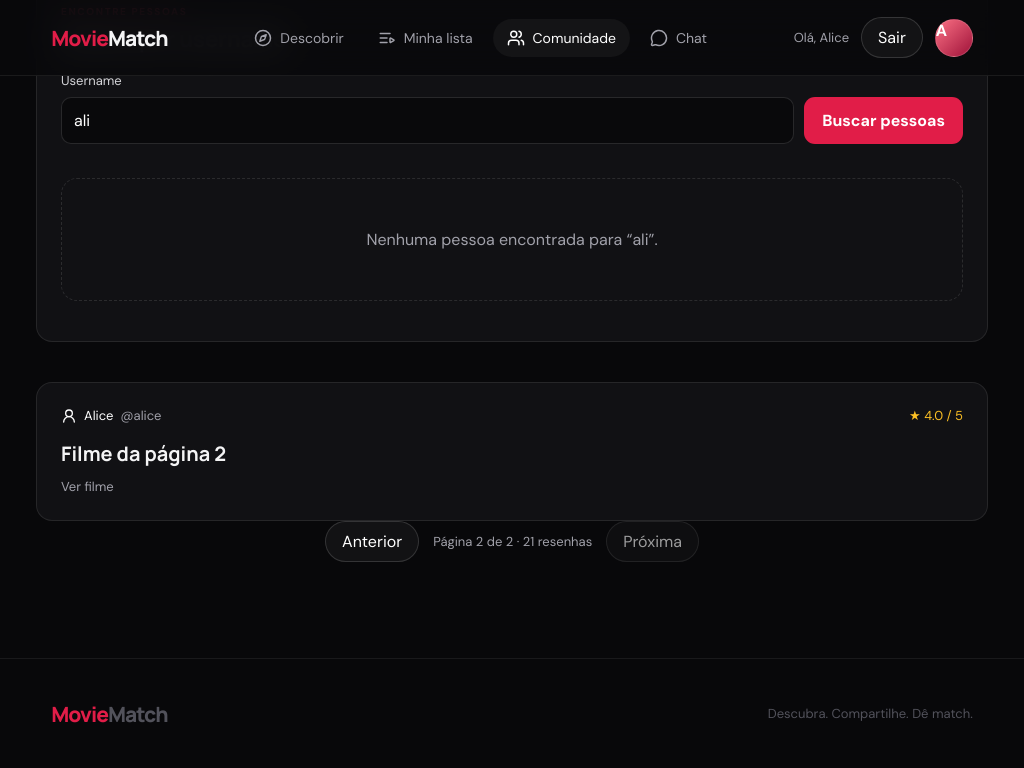
Test: MovieMatch home › paginates the followed review feed and preserves the page in direct URLs
(page scrolled)
Check: the heading "Filme da página 2" is shown, box [61, 440, 226, 467]
Check: the text "Página 2 de 2 · 21 resenhas" is shown, box [433, 533, 592, 550]
Click the button "Anterior". click: point(372, 542)
box: [325, 521, 419, 562]
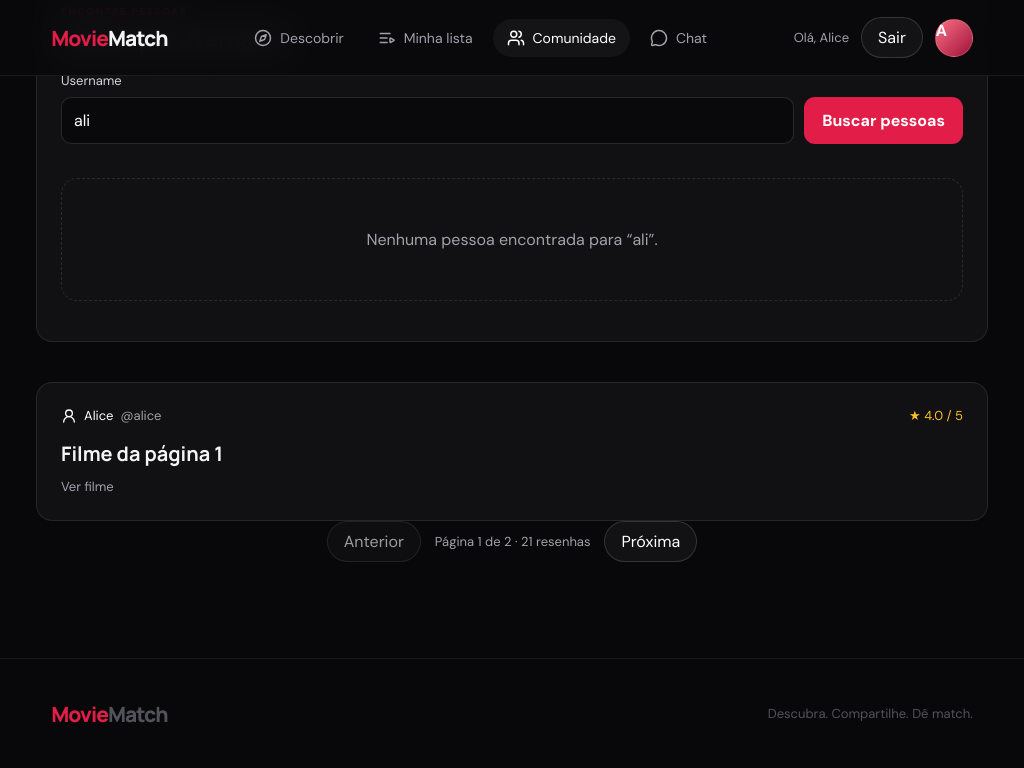
Check: the heading "Filme da página 1" is shown, box [61, 440, 223, 467]
